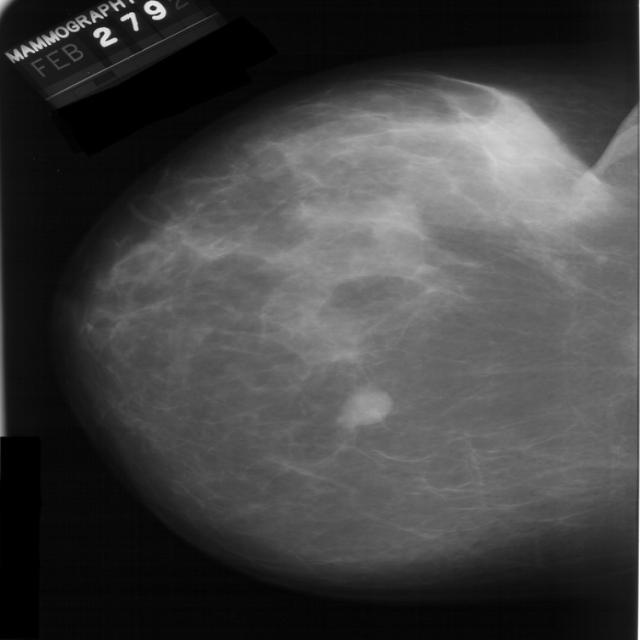tumour: (337, 385, 391, 425)
